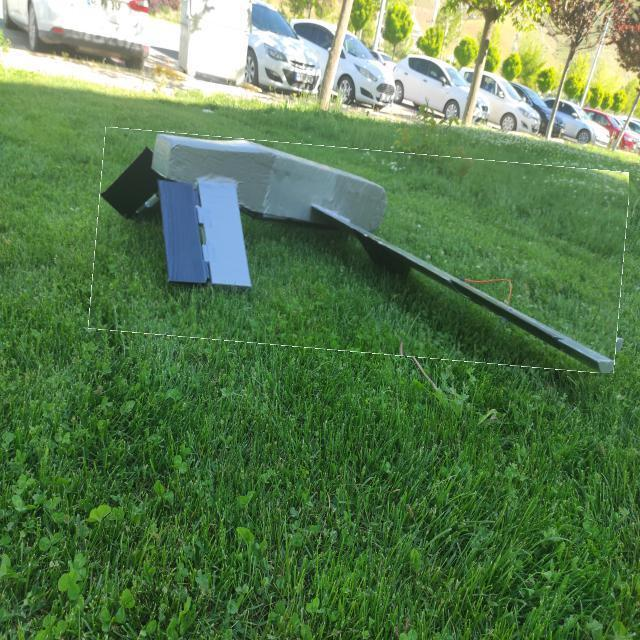UAV: (78, 83, 625, 380)
